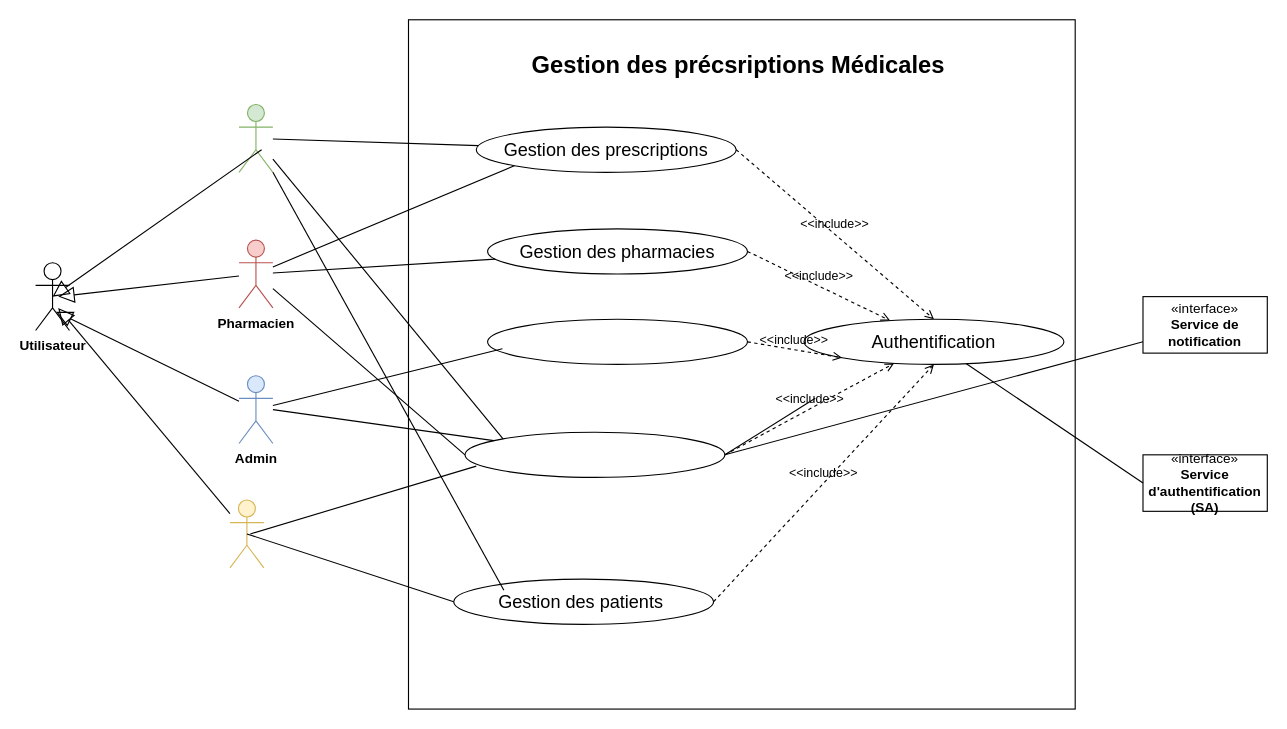
This 1287x729 diagram has some shape labels left out. Each missing label, with the centre of its shape:
"Gestion des notifications" goes at point (594, 454).
"Gestion des utilisateurs" goes at point (616, 341).
"Medecin" goes at point (255, 137).
"Patient" goes at point (246, 533).
